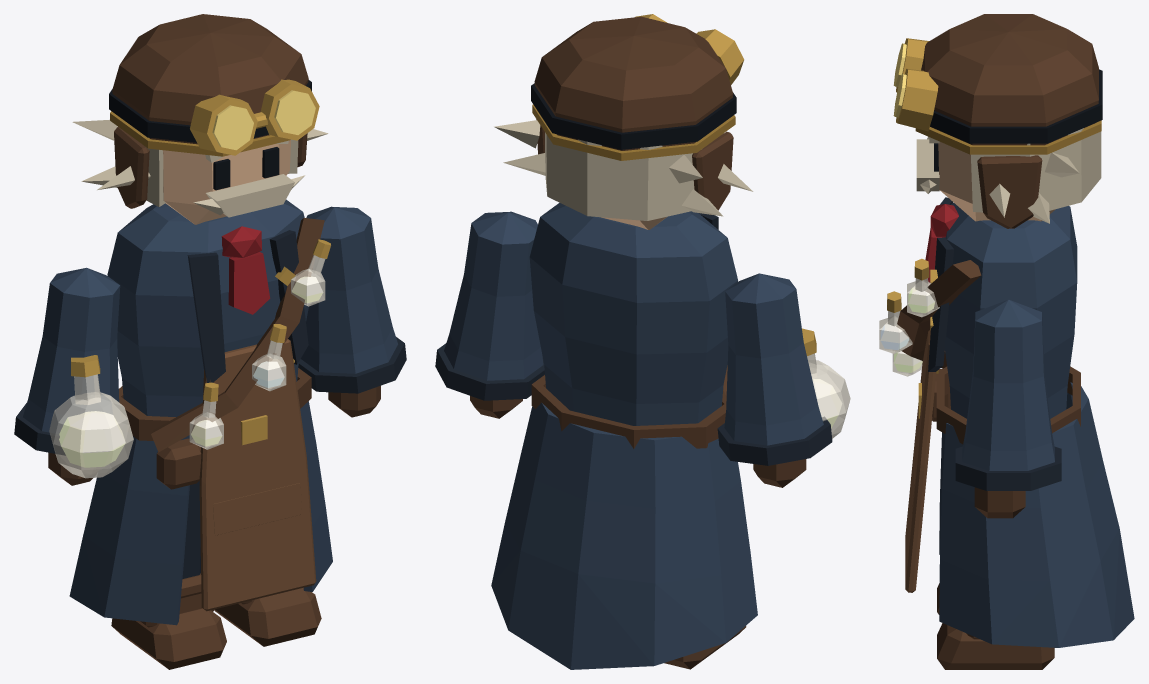
Rendered from Alchemist.fbx.
3 views of the same model, side by side, from view 1: azimuth 30°, elevation 25°; view 2: azimuth 150°, elevation 25°; view 3: azimuth 270°, elevation 25° (orthographic).
Visible parts, largest first — view 1: Apron, Torso, Coat, Cap, LeftArm, RightArm, HeldFlask, FaceHair, RightLegBoot, Lapels, Bandolier, Head (+18 smaller); view 2: Coat, Torso, Cap, RightArm, LeftArm, FaceHair, GoggleStrap, Belt, RightArmCuff, LeftArmCuff, CapRivets, HeldFlask (+4 smaller); view 3: Coat, Cap, Torso, LeftArm, FaceHair, Apron, LeftLegBoot, GoggleStrap, Bandolier, Flasks, Goggles, LeftArmCuff (+10 smaller).
Boxes of the visible parts, x1,y1,x2,y2 form: Apron: (199,339,316,611); Torso: (107,199,308,417); Coat: (69,401,332,625); Cap: (112,14,308,208); LeftArm: (301,206,397,373); RightArm: (23,267,120,433); HeldFlask: (49,374,133,478); FaceHair: (72,119,328,217); RightLegBoot: (111,573,226,669); Lapels: (187,230,308,382); Bandolier: (151,218,324,452); Head: (163,139,290,224); Coat: (491,402,757,669); Torso: (529,202,737,425); Cap: (534,16,733,215); RightArm: (724,273,823,445); LeftArm: (444,211,543,380); FaceHair: (494,120,753,220); GoggleStrap: (531,83,736,149); Belt: (531,375,726,448); RightArmCuff: (717,417,832,465); LeftArmCuff: (435,343,544,400); CapRivets: (532,104,735,160); HeldFlask: (807,353,850,438); Coat: (939,382,1134,647); Cap: (921,14,1098,228); Torso: (945,202,1077,418); LeftArm: (962,299,1054,470); FaceHair: (916,128,1101,223); Apron: (905,330,936,592); LeftLegBoot: (937,623,1054,669); GoggleStrap: (930,69,1102,143); Bandolier: (896,260,981,368); Flasks: (879,278,939,376); Goggles: (896,38,938,131); LeftArmCuff: (955,446,1061,490).
Size of the model in its own units: 4.08 by 6.27 by 2.41.
